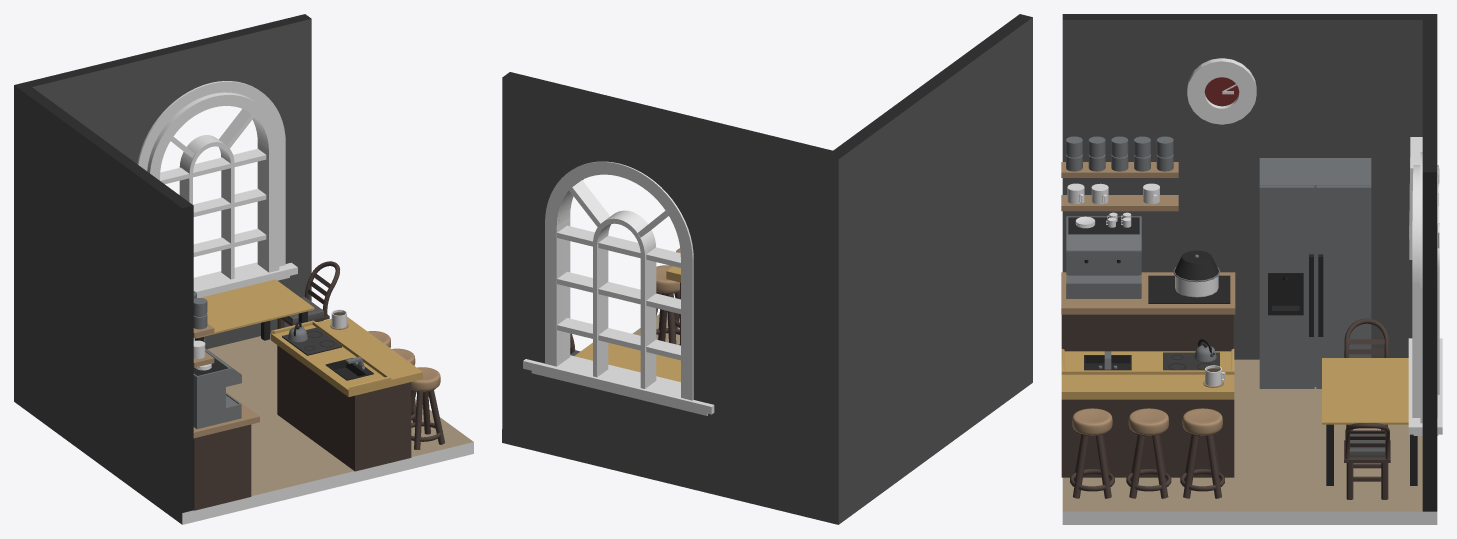
Rendered from Kitchen.fbx.
3 renders of one model, left to right at view 1: azimuth 30°, elevation 25°; view 2: azimuth 150°, elevation 25°; view 3: azimuth 270°, elevation 25°, orthographic. The views are drawn at different scales.
Parts seen in each view (by area): view 1: pCube3, pCube46, pPipe6, pCube1, polySurface28, polySurface36, polySurface34, polySurface16, pCube50, polySurface26, polySurface17, pCylinder17 (+6 smaller); view 2: pCube46, pCube3, polySurface28, pCube1, polySurface26, polySurface17, polySurface31, polySurface29, polySurface30, polySurface16, polySurface32, polySurface34 (+1 smaller); view 3: pCube3, pCube1, pCube43, pPipe6, pCube46, polySurface36, pCube50, polySurface16, pCylinder17 (×3), polySurface35, pPipe14, pCylinder11 (×3) (+20 smaller).
Boxes of the visible parts, x1,y1,x2,y2 form: pCube3: [14, 84, 193, 512]; pCube46: [17, 14, 311, 348]; pPipe6: [271, 316, 422, 471]; pCube1: [14, 333, 473, 524]; polySurface28: [147, 92, 279, 272]; polySurface36: [193, 424, 251, 510]; polySurface34: [137, 81, 285, 267]; polySurface16: [195, 279, 314, 338]; pCube50: [193, 348, 241, 428]; polySurface26: [179, 135, 234, 279]; polySurface17: [193, 262, 297, 297]; pCylinder17: [411, 388, 444, 449]; pCube46: [502, 72, 842, 510]; pCube3: [833, 14, 1032, 511]; polySurface28: [545, 161, 693, 400]; pCube1: [502, 312, 1032, 524]; polySurface26: [593, 210, 656, 388]; polySurface17: [523, 355, 714, 414]; polySurface31: [557, 225, 680, 267]; polySurface29: [557, 318, 680, 360]; polySurface30: [557, 271, 680, 314]; polySurface16: [574, 342, 680, 381]; polySurface32: [569, 180, 610, 226]; polySurface34: [559, 181, 579, 364]; pCube3: [1062, 14, 1437, 359]; pCube1: [1062, 359, 1437, 524]; pCube43: [1259, 158, 1371, 388]; pPipe6: [1061, 348, 1234, 477]; pCube46: [1422, 15, 1437, 511]; polySurface36: [1061, 314, 1233, 351]; pCube50: [1066, 216, 1141, 298]; polySurface16: [1322, 358, 1408, 424]; pCylinder17 (×3): [1070, 432, 1224, 498]; polySurface35: [1061, 272, 1235, 314]; pPipe14: [1187, 58, 1256, 124]; pCylinder11 (×3): [1072, 408, 1222, 435].
Bounding box in the file's own units: 5.83 × 6.04 × 5.92.
